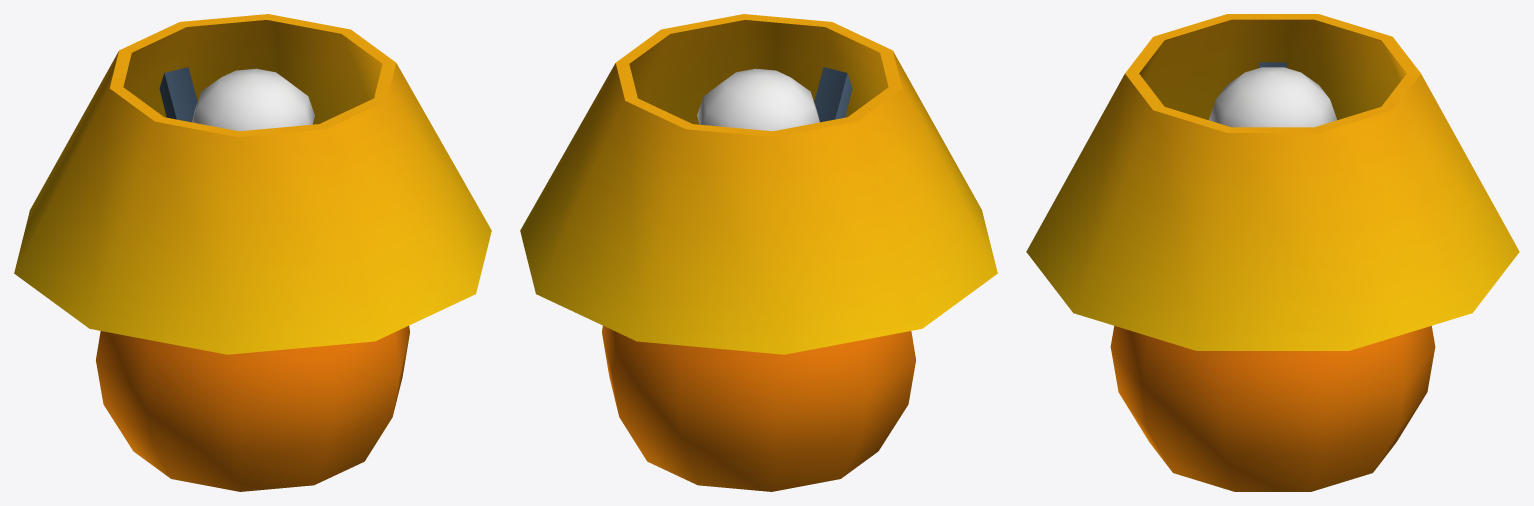
File: Lamp2.fbx
3 renders of one model, left to right at view 1: azimuth 30°, elevation 25°; view 2: azimuth 150°, elevation 25°; view 3: azimuth 270°, elevation 25°, orthographic.
Visible parts, largest first — view 1: Lamp2_1; view 2: Lamp2_1; view 3: Lamp2_1.
Part boxes in pixels (box(x1,y1,x2,y2)): Lamp2_1: box(14, 14, 491, 491); Lamp2_1: box(520, 14, 997, 491); Lamp2_1: box(1026, 14, 1519, 491).
Size of the model in its own units: 829 by 719 by 872.
